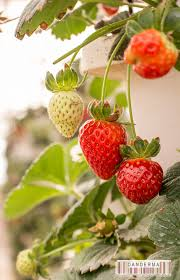ripe: (73, 107, 132, 184), (116, 156, 165, 207), (12, 245, 43, 275)
unripe: (119, 26, 175, 84), (43, 83, 87, 142)
